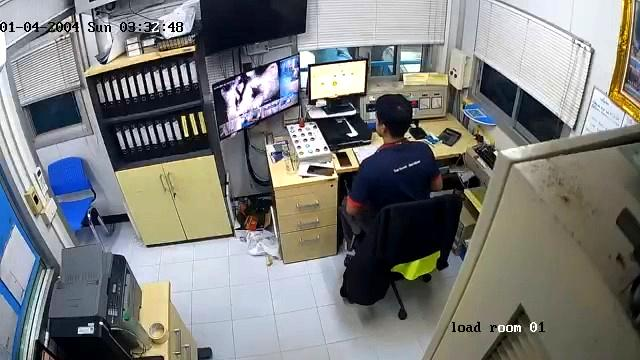Head: (376, 94, 411, 138)
People: (340, 94, 442, 238)
Phone: (307, 165, 333, 175), (336, 152, 351, 166)
